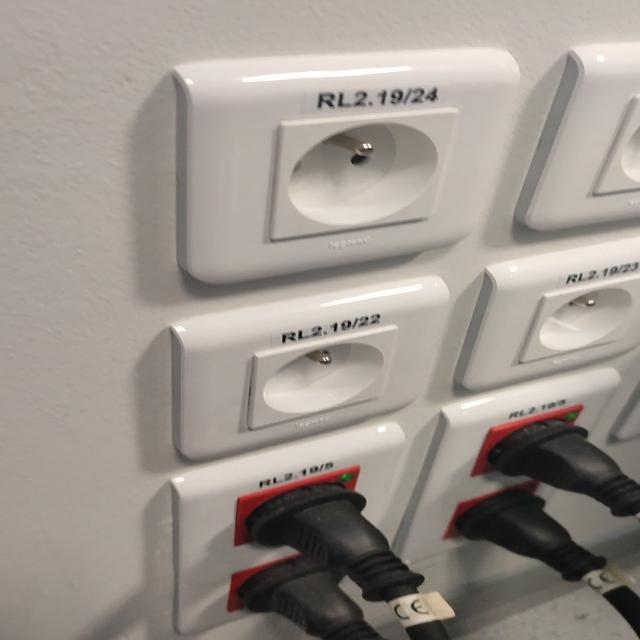house plug: (268, 108, 464, 241), (244, 326, 400, 432), (513, 273, 640, 363)
